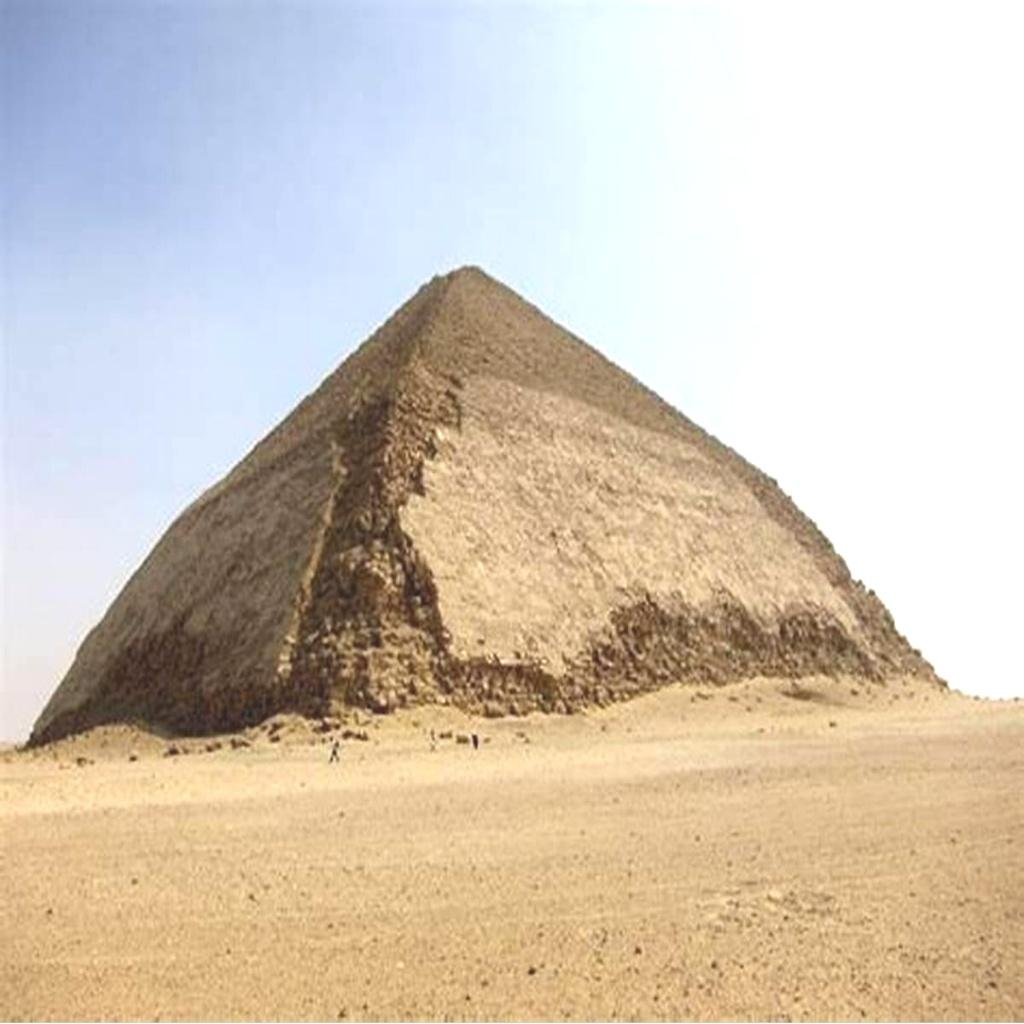Bent Pyramid of King Sneferu: (24, 258, 952, 751)
